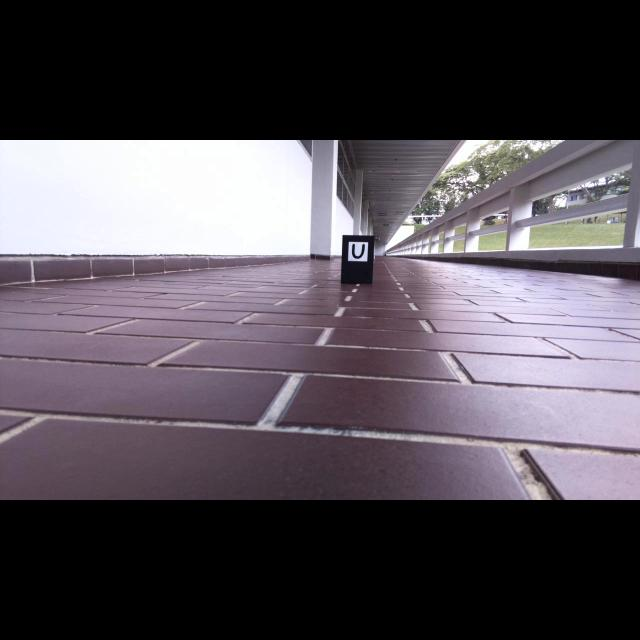U: (352, 244, 365, 259)
